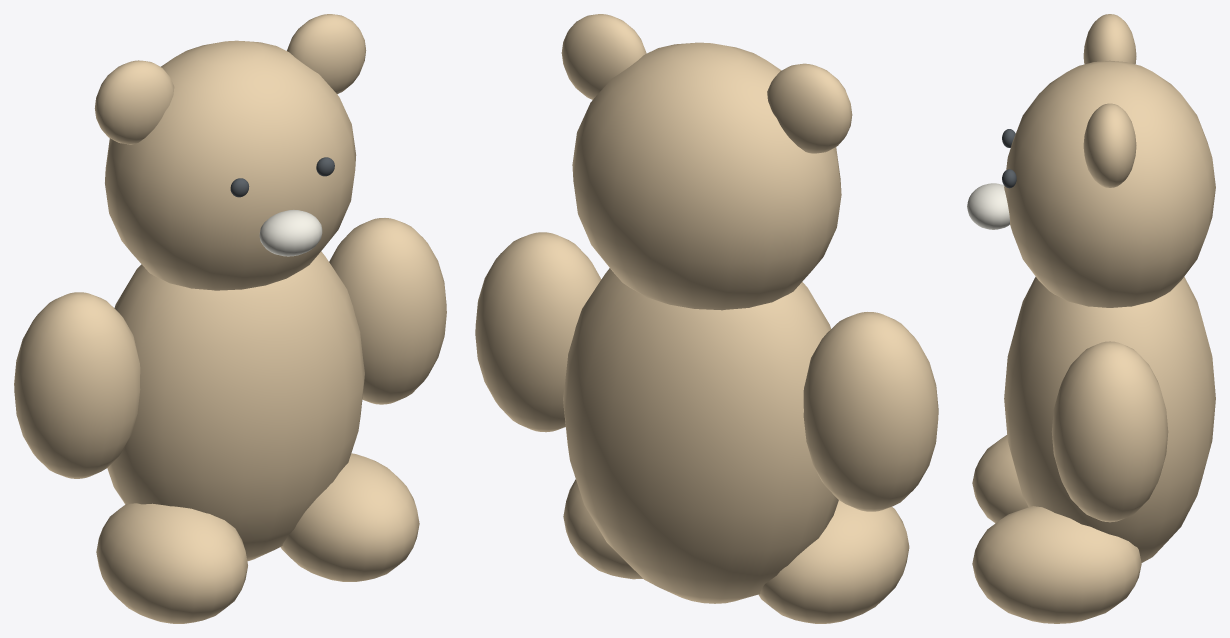
The model's file is atelier-teddy-bear.glb.
The picture shows the model from 3 angles, left to right: view 1: azimuth 30°, elevation 25°; view 2: azimuth 150°, elevation 25°; view 3: azimuth 270°, elevation 25°; orthographic projection. The views are drawn at different scales.
Parts seen in each view (by area): view 1: accent.042, ceramic.125, metal.167; view 2: accent.042; view 3: accent.042, ceramic.125, metal.167.
Boxes of the visible parts, bbox=[...] form: accent.042: bbox=[14, 14, 446, 623]; ceramic.125: bbox=[259, 209, 322, 256]; metal.167: bbox=[230, 157, 334, 197]; accent.042: bbox=[475, 14, 938, 623]; accent.042: bbox=[972, 14, 1215, 623]; ceramic.125: bbox=[967, 183, 1009, 229]; metal.167: bbox=[1002, 129, 1016, 188].
Bounding box in the file's own units: 0.44 × 0.535 × 0.235.
